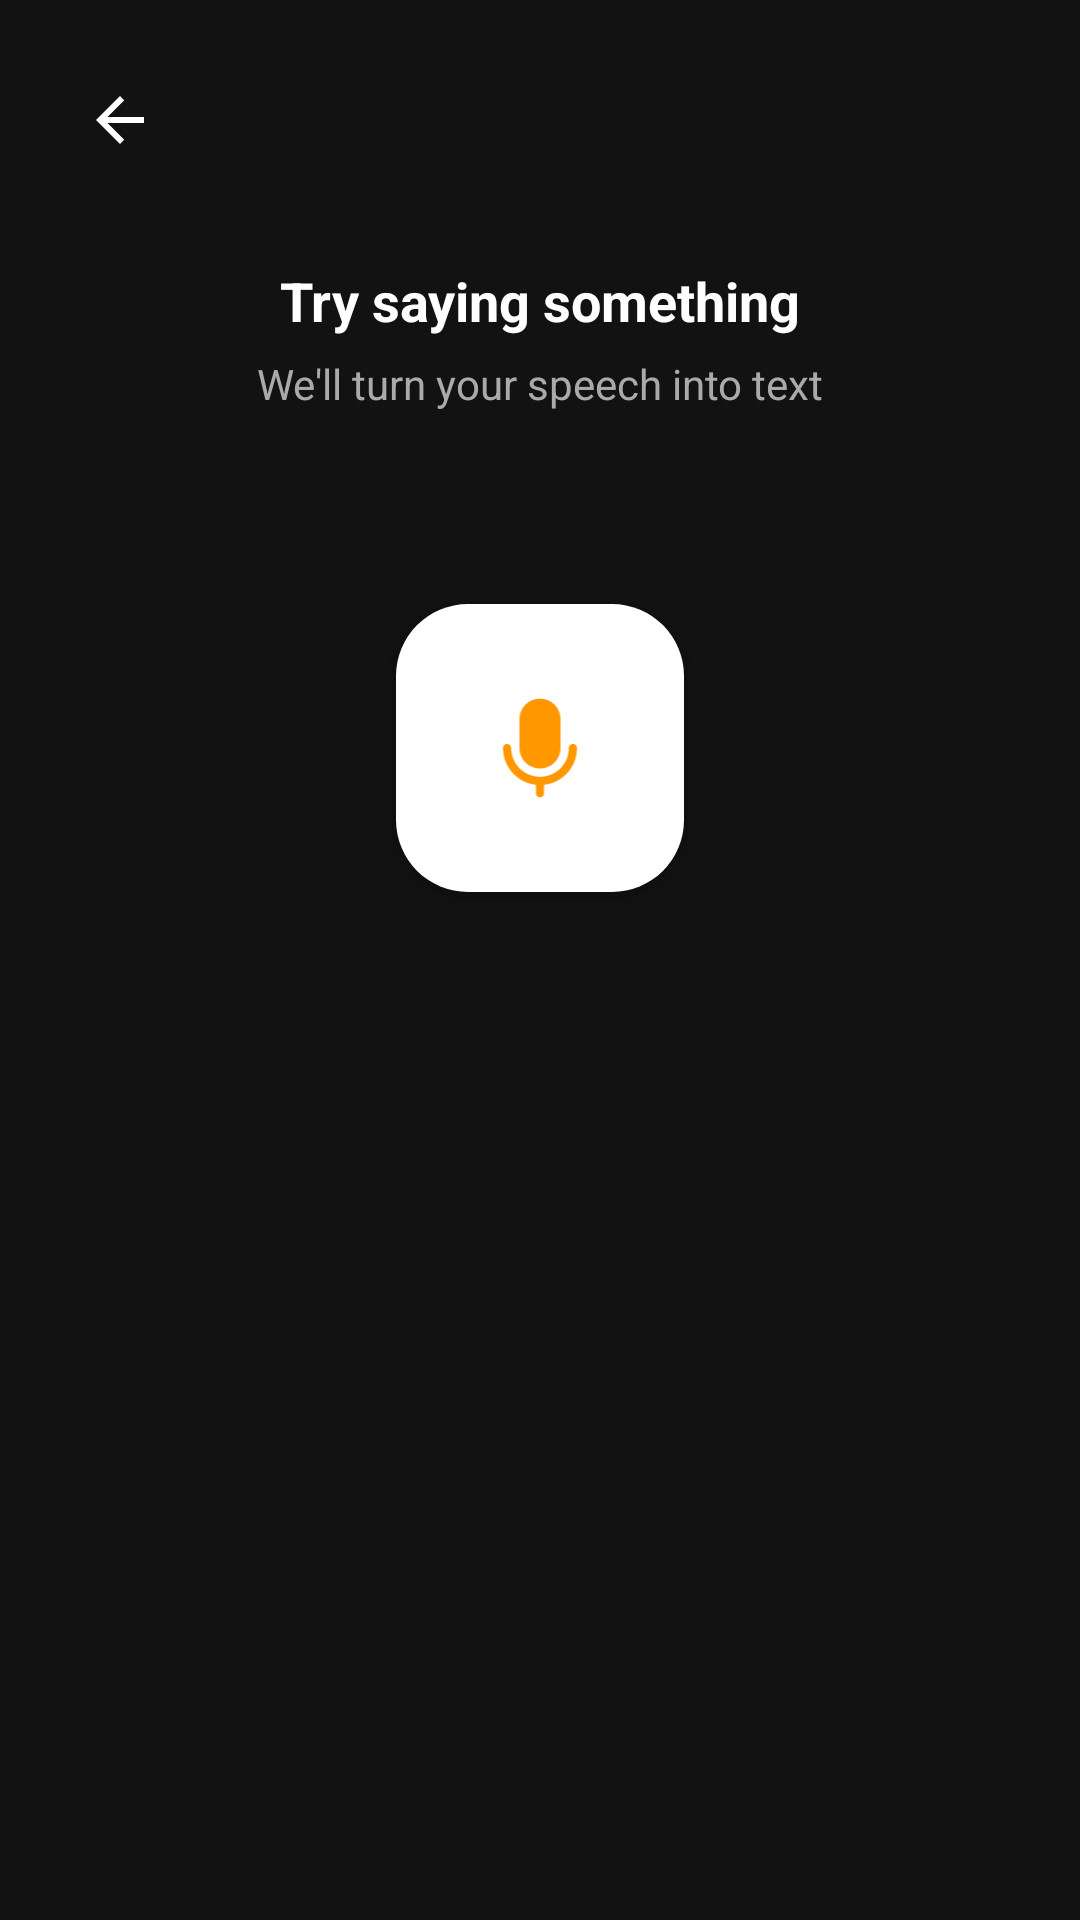

Icons on this 1080 × 1920 Android screen, each with the point to tap as (x=x, y=y):
Back to keyboard: (x=120, y=120)
Voice input: (x=540, y=748)
